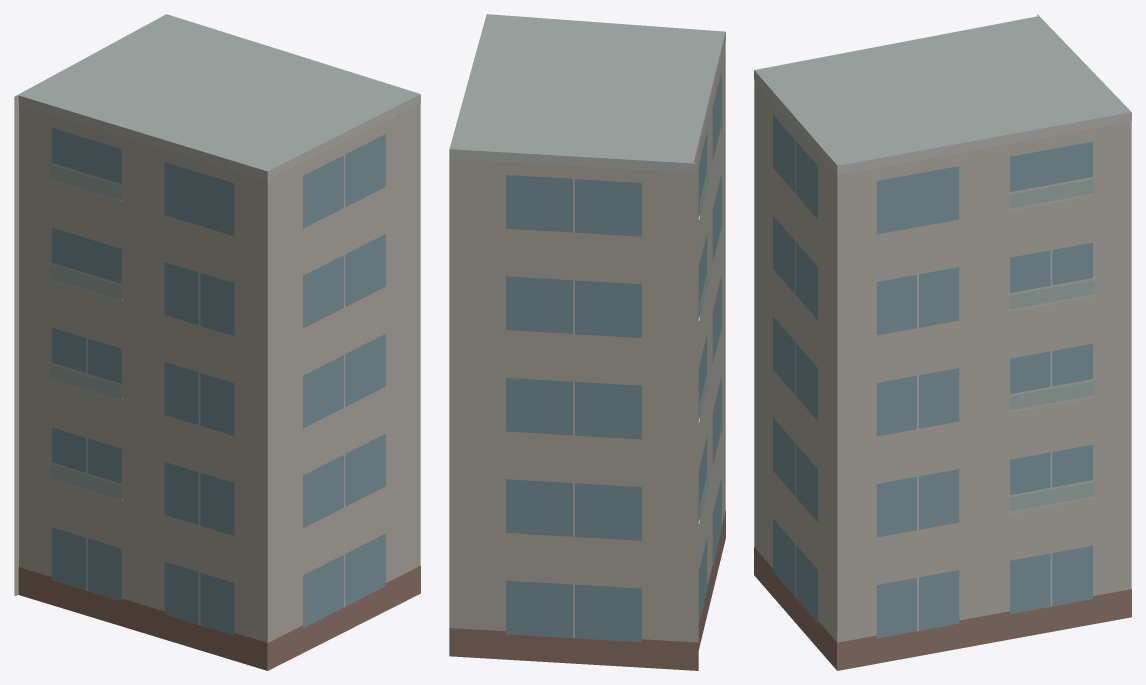
File: survey-upis-33018829.glb
3 renders of one model, left to right at view 1: azimuth 30°, elevation 25°; view 2: azimuth 150°, elevation 25°; view 3: azimuth 270°, elevation 25°, orthographic.
Visible parts, largest first — view 1: survey-upis-33018829.tmp; view 2: survey-upis-33018829.tmp; view 3: survey-upis-33018829.tmp.
Boxes of the visible parts, x1=… form: survey-upis-33018829.tmp: x1=14, y1=14, x2=420, y2=670; survey-upis-33018829.tmp: x1=449, y1=14, x2=725, y2=670; survey-upis-33018829.tmp: x1=754, y1=14, x2=1131, y2=670.
Size of the model in its own units: 8.45 by 13.1 by 8.89.
